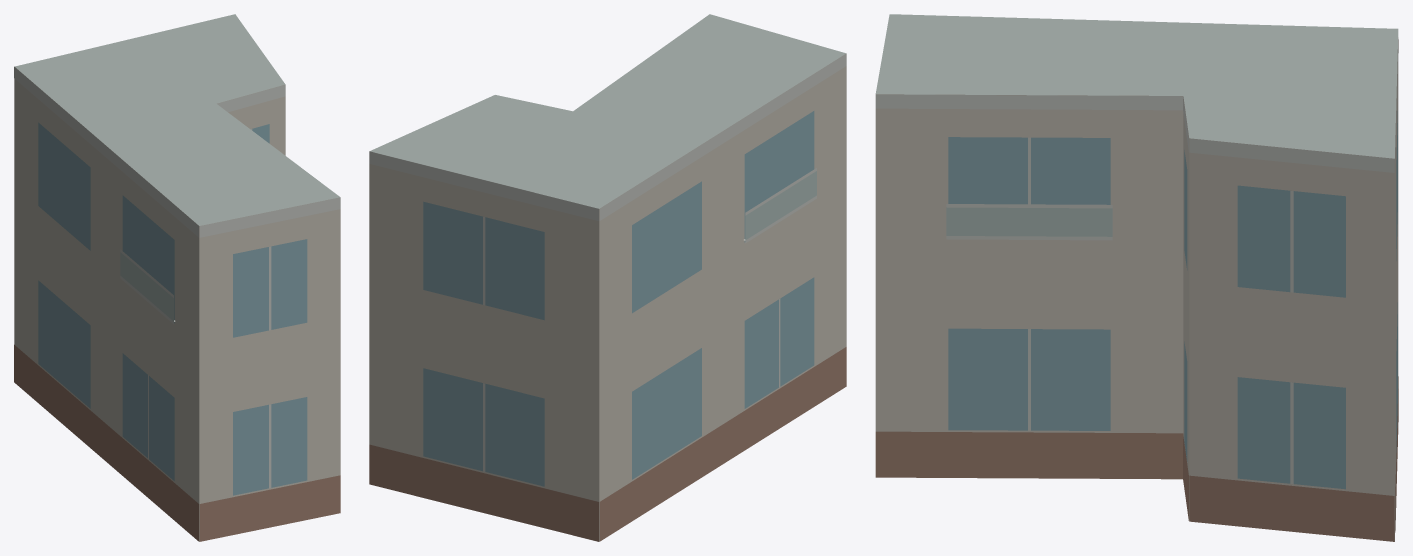
The model's file is survey-upis-32494275.glb.
3 views of the same model, side by side, from view 1: azimuth 30°, elevation 25°; view 2: azimuth 150°, elevation 25°; view 3: azimuth 270°, elevation 25° (orthographic). The views are drawn at different scales.
Parts seen in each view (by area): view 1: survey-upis-32494275.tmp; view 2: survey-upis-32494275.tmp; view 3: survey-upis-32494275.tmp.
Part boxes in pixels (x1,y1,x2,y2): survey-upis-32494275.tmp: (14, 14, 340, 541); survey-upis-32494275.tmp: (369, 14, 846, 541); survey-upis-32494275.tmp: (875, 14, 1398, 541).
Size of the model in its own units: 5.27 by 6.5 by 8.05.
